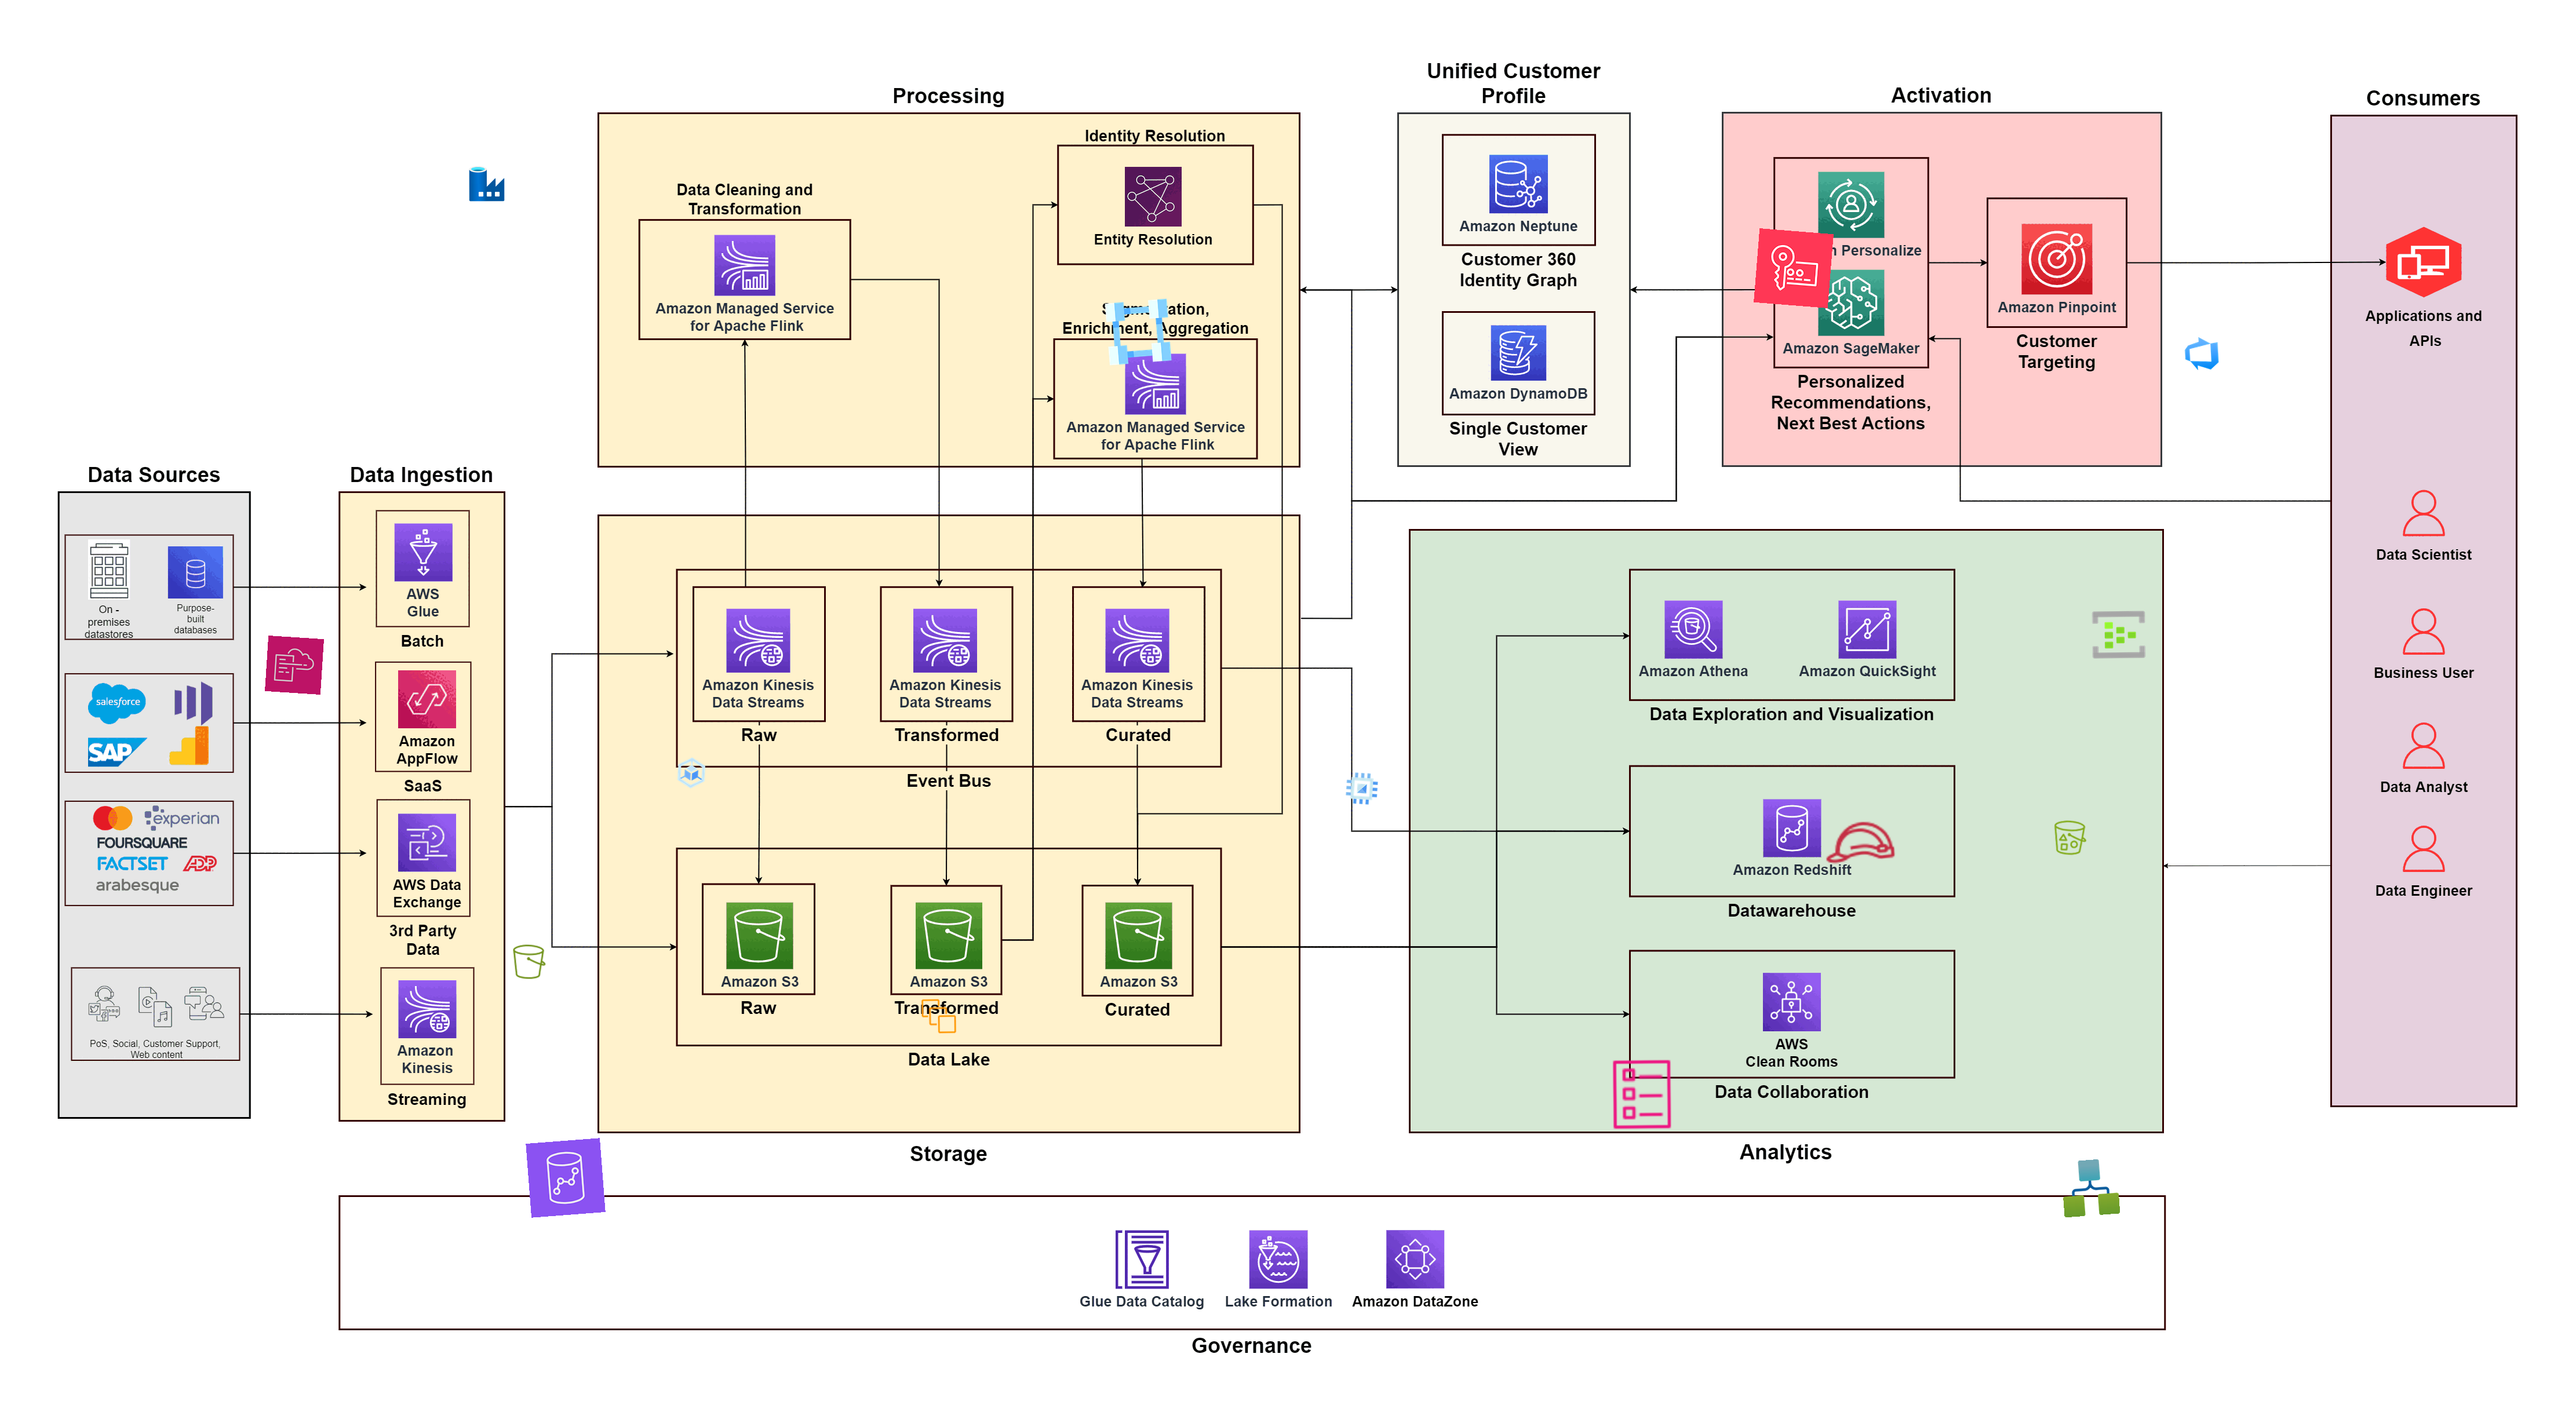aws_amazon_redshift: (525, 1139, 605, 1217)
aws_cloudformation: (265, 635, 324, 694)
aws_cloudformation_template: (1603, 1057, 1680, 1132)
aws_ec2_instances: (919, 997, 957, 1036)
aws_identity_access_management_role: (1821, 802, 1899, 882)
aws_key_management_service: (1753, 228, 1833, 309)
aws_simple_storage_service_bucket_with_objects: (2051, 818, 2089, 858)
aws_simple_storage_service_s3_standard: (509, 943, 548, 980)
azure_data_factories: (467, 164, 506, 202)
azure_devops: (2182, 333, 2222, 373)
azure_event_hubs: (2091, 607, 2147, 663)
azure_logic_apps: (2060, 1158, 2121, 1217)
gcp_compute_engine: (1341, 769, 1381, 809)
gcp_google_kubernetes_engine: (671, 753, 712, 793)
gcp_virtual_private_cloud: (1099, 291, 1179, 371)
